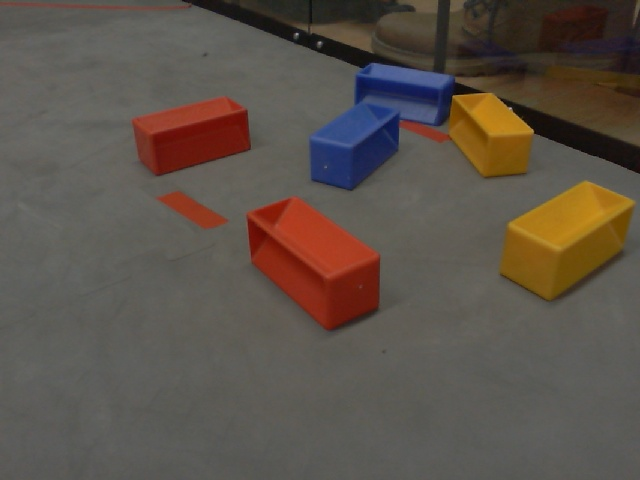BlueSample: (305, 100, 404, 193), (355, 58, 452, 130)
RedSample: (242, 194, 384, 337), (129, 94, 255, 180)
YellowSample: (499, 179, 633, 303), (447, 88, 537, 181)
